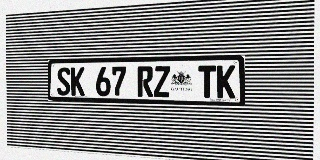6: (96, 67, 111, 96)
7: (111, 67, 126, 97)
K: (217, 65, 235, 98), (71, 67, 85, 96)
R: (137, 66, 153, 97)
S: (57, 67, 70, 96)
T: (198, 65, 216, 98)
Z: (154, 66, 170, 97)
